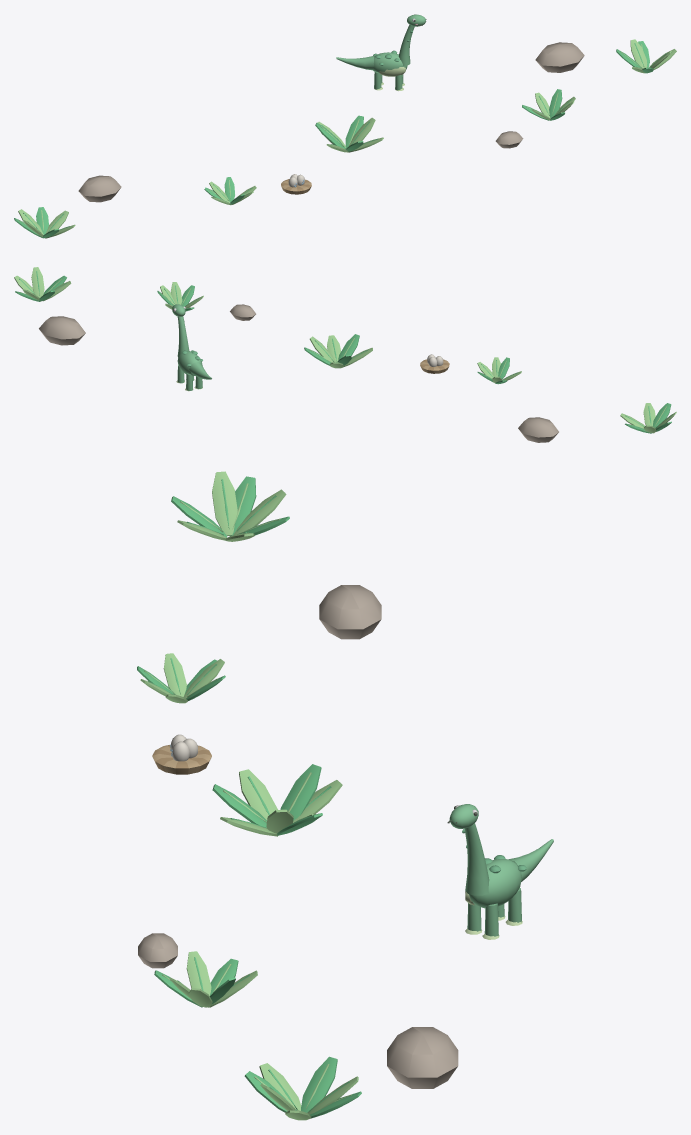
Rendered from dino-near.glb.
3 renders of one model, top to bottom at view 1: azimuth 30°, elevation 25°; view 2: azimuth 150°, elevation 25°; view 3: azimuth 270°, elevation 25°, orthographic. The views are drawn at different scales.
Parts seen in each view (by area): view 1: dino-near; view 2: dino-near; view 3: dino-near.
Part boxes in pixels (box(x1,y1,x2,y2)): dino-near: box(14, 14, 676, 238); dino-near: box(14, 267, 676, 442); dino-near: box(137, 471, 553, 1120).
Bounding box in the file's own units: 61.93 × 7 × 17.34.
